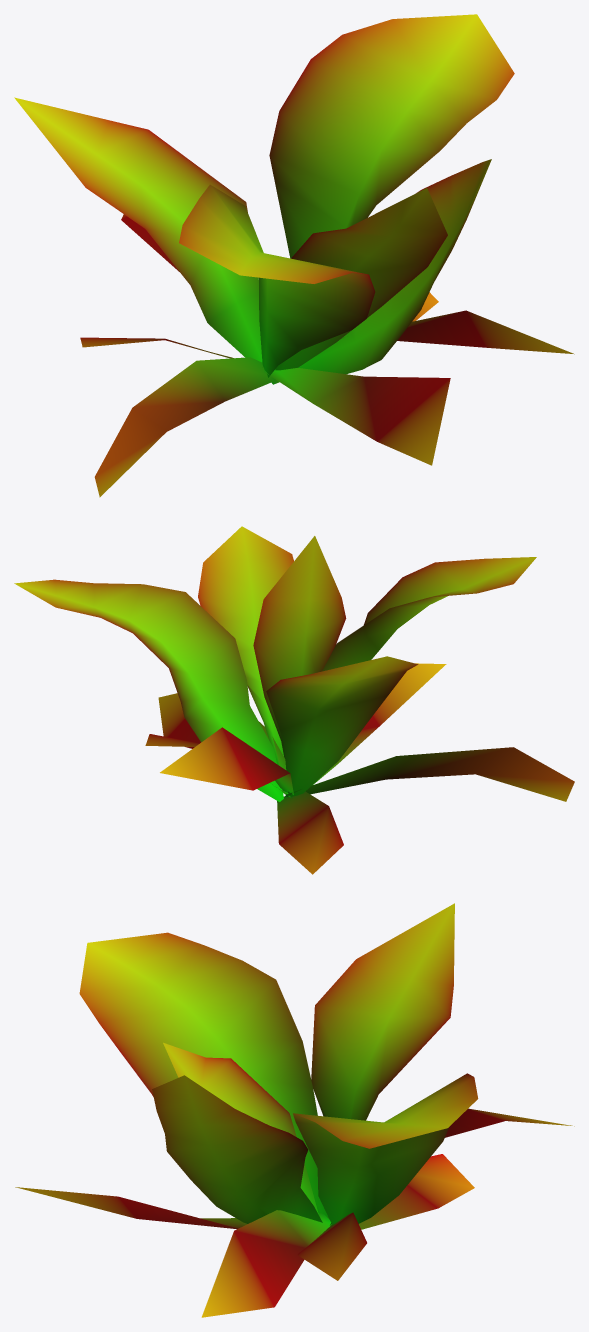
Rendered from Silver Lady Fern_LOD4_Var3_ubolejkia.fbx.
3 renders of one model, top to bottom at view 1: azimuth 30°, elevation 25°; view 2: azimuth 150°, elevation 25°; view 3: azimuth 270°, elevation 25°, orthographic. The views are drawn at different scales.
Parts seen in each view (by area): view 1: _559f_Var3_LOD4; view 2: _559f_Var3_LOD4; view 3: _559f_Var3_LOD4.
Boxes of the visible parts, bbox=[...] form: _559f_Var3_LOD4: bbox=[14, 14, 574, 497]; _559f_Var3_LOD4: bbox=[14, 526, 574, 874]; _559f_Var3_LOD4: bbox=[15, 903, 574, 1317].
Bounding box in the file's own units: 126 × 63.1 × 128.
